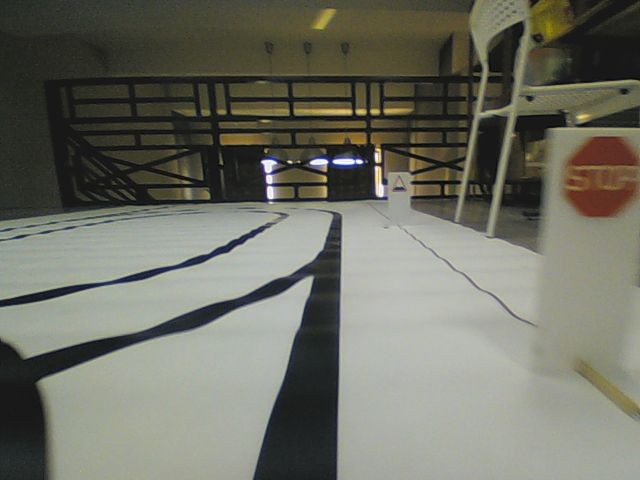Stop: (561, 135, 640, 219)
